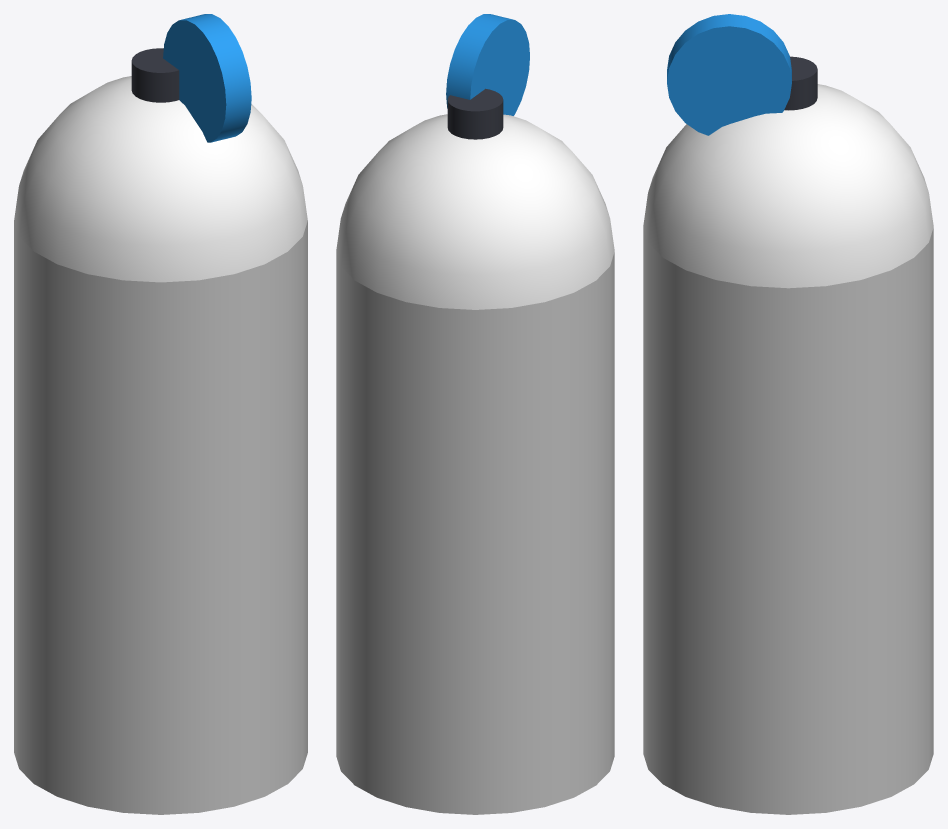
The model's file is Oxygen.fbx.
The picture shows the model from 3 angles, left to right: view 1: azimuth 30°, elevation 25°; view 2: azimuth 150°, elevation 25°; view 3: azimuth 270°, elevation 25°; orthographic projection. The views are drawn at different scales.
Parts seen in each view (by area): view 1: mergedBlocks; view 2: mergedBlocks; view 3: mergedBlocks.
Boxes of the visible parts, left/top/right/bottom form: mergedBlocks: left=14, top=14, right=307, bottom=814; mergedBlocks: left=336, top=14, right=614, bottom=814; mergedBlocks: left=643, top=14, right=933, bottom=814.
Bounding box in the file's own units: 10 × 28.15 × 10.
